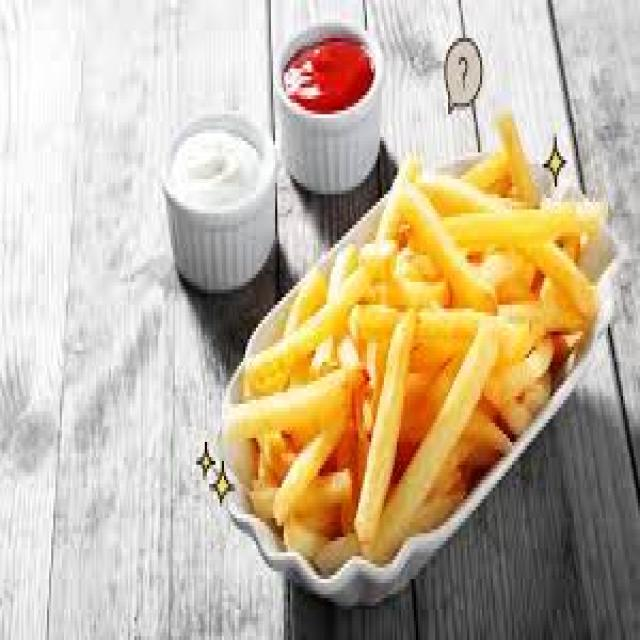Kentang Goreng: (234, 162, 575, 610)
